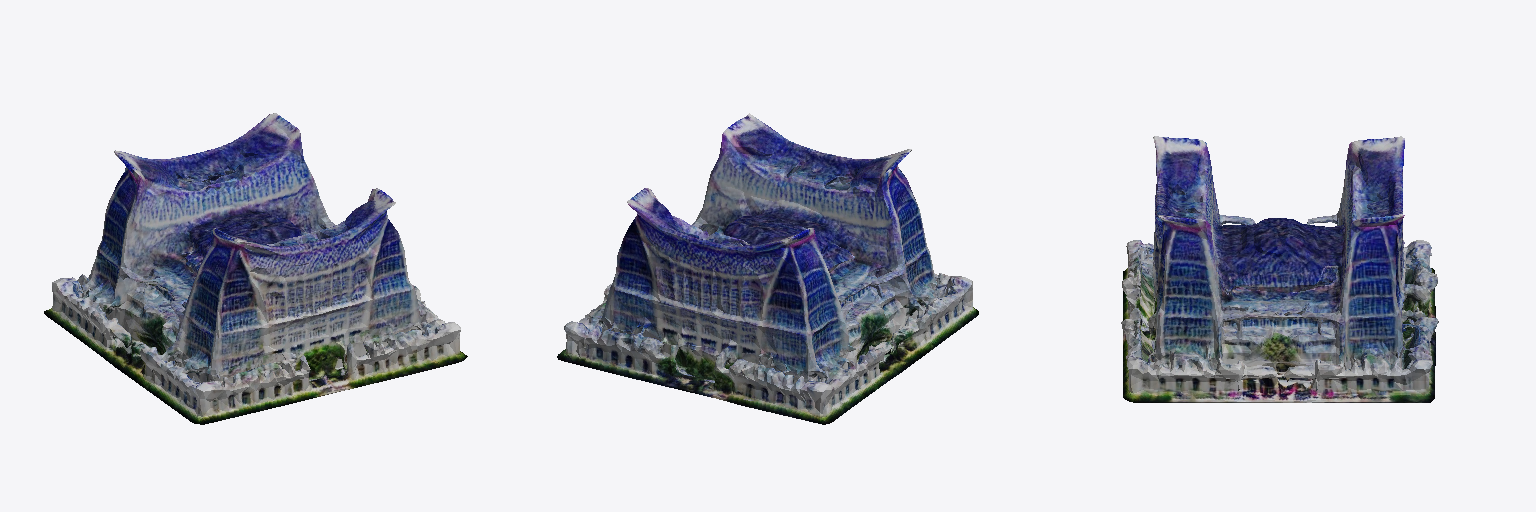
3 renders of one model, left to right at view 1: azimuth 30°, elevation 25°; view 2: azimuth 150°, elevation 25°; view 3: azimuth 270°, elevation 25°, orthographic.
Parts seen in each view (by area): view 1: mesh; view 2: mesh; view 3: mesh.
Boxes of the visible parts, x1=… form: mesh: x1=44, y1=113, x2=467, y2=424; mesh: x1=557, y1=113, x2=978, y2=424; mesh: x1=1121, y1=136, x2=1438, y2=402.
Bounding box in the file's own units: 0.9996 × 0.5636 × 0.9999.
1 materials, 1 textured.